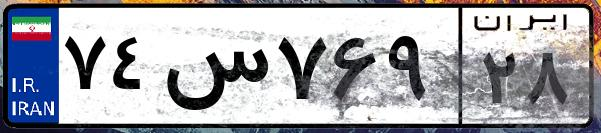2: (475, 38, 525, 113)
4: (110, 28, 158, 98)
6: (330, 28, 385, 110)
7: (270, 28, 330, 110), (57, 26, 110, 100)
8: (525, 38, 570, 115)
9: (385, 28, 445, 110)
س: (158, 20, 270, 120)
